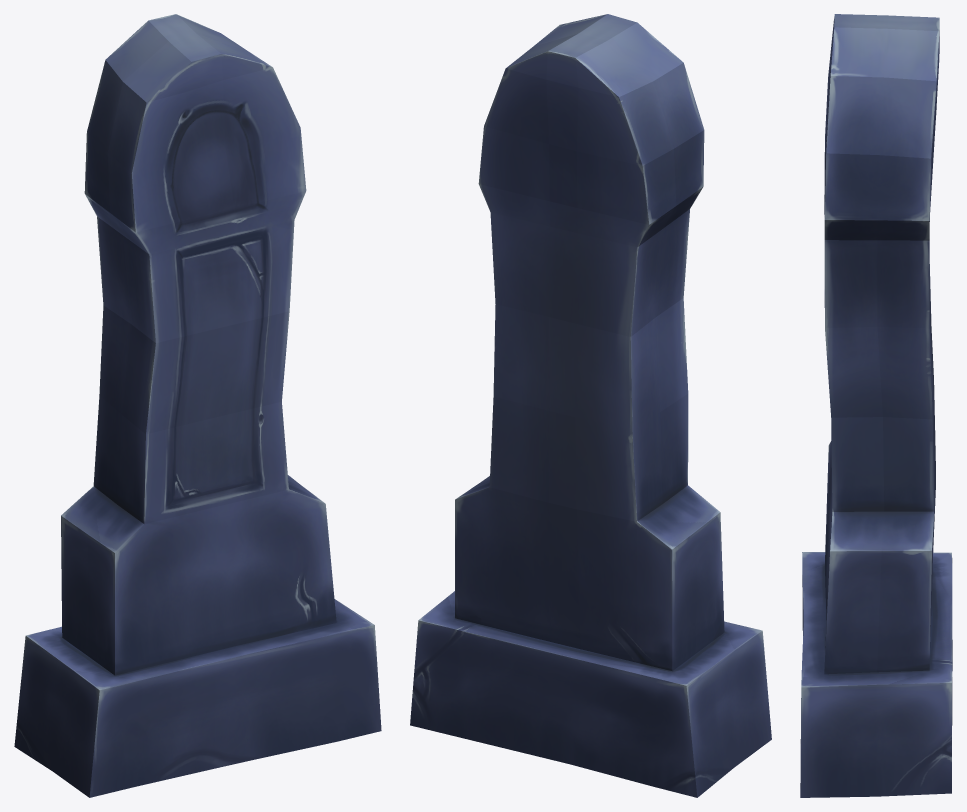
File: gravestone2_4.fbx
The picture shows the model from 3 angles, left to right: view 1: azimuth 30°, elevation 25°; view 2: azimuth 150°, elevation 25°; view 3: azimuth 270°, elevation 25°; orthographic projection.
Parts seen in each view (by area): view 1: Plane.001; view 2: Plane.001; view 3: Plane.001.
Boxes of the visible parts, x1=… form: Plane.001: x1=14, y1=14, x2=381, y2=797; Plane.001: x1=410, y1=14, x2=771, y2=797; Plane.001: x1=800, y1=14, x2=952, y2=797.
Bounding box in the file's own units: 221 × 507 × 99.77.
